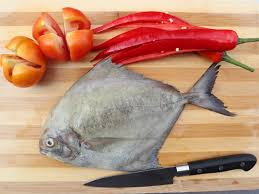Ikan Bawal: (33, 60, 232, 171)
